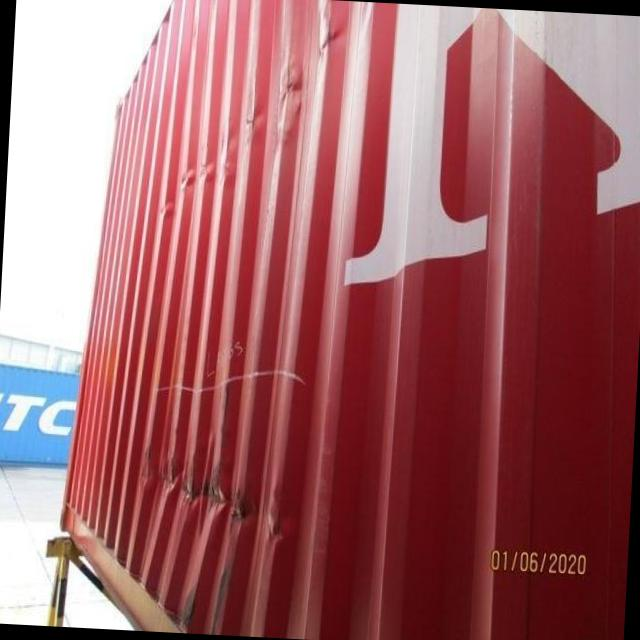Deframe_or_Dent: (155, 10, 353, 231), (114, 426, 324, 574)
